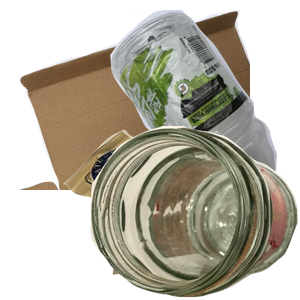cardboard: (16, 10, 256, 190)
glass: (90, 126, 300, 300)
plastic: (73, 10, 300, 190)
trash: (61, 127, 260, 300)
